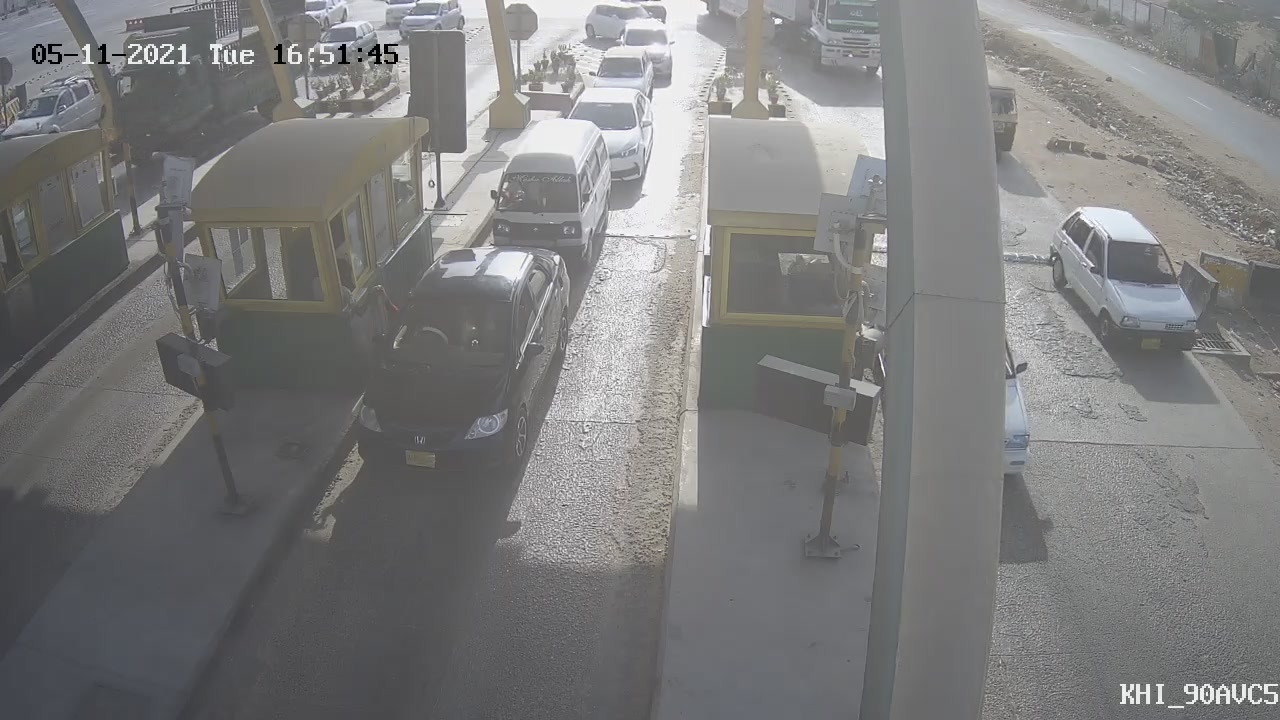F1: (331, 230, 589, 503), (468, 108, 629, 291)
